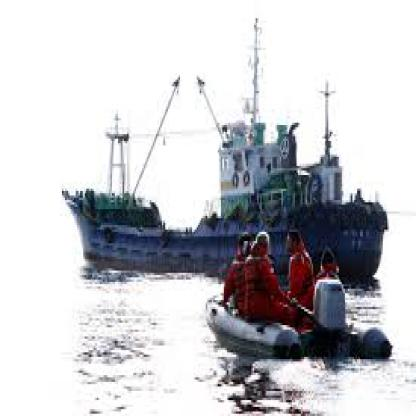fish-b: (51, 9, 401, 298)
